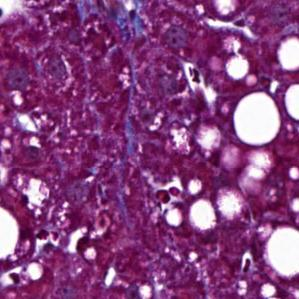inflammation: (69, 229, 106, 260), (150, 181, 188, 205), (182, 63, 207, 90)
